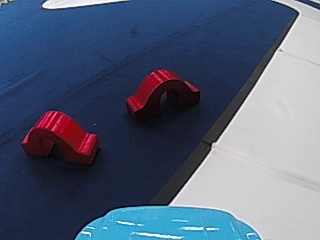bridge: (18, 107, 106, 165), (121, 64, 201, 121)
